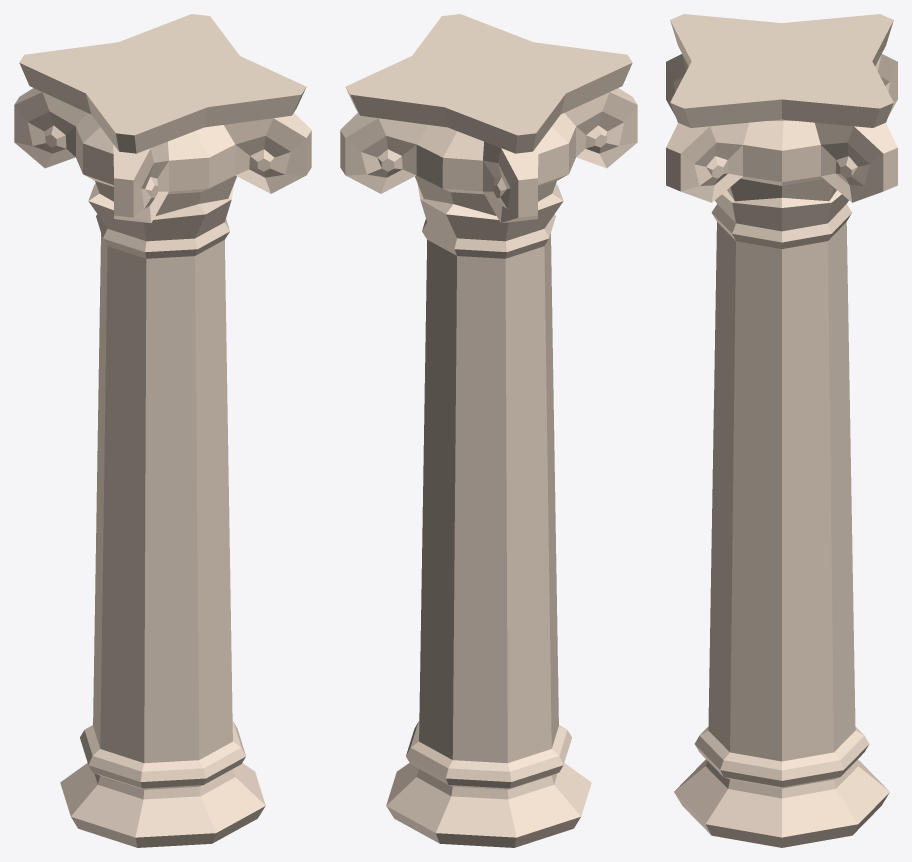
File: empire-pillar-composite-small-empire.glb
3 views of the same model, side by side, from view 1: azimuth 30°, elevation 25°; view 2: azimuth 150°, elevation 25°; view 3: azimuth 270°, elevation 25° (orthographic).
Parts seen in each view (by area): view 1: SM_Pillar_Composite_Small_Empire; view 2: SM_Pillar_Composite_Small_Empire; view 3: SM_Pillar_Composite_Small_Empire.
Boxes of the visible parts, bbox=[...] form: SM_Pillar_Composite_Small_Empire: bbox=[14, 14, 311, 847]; SM_Pillar_Composite_Small_Empire: bbox=[340, 14, 637, 847]; SM_Pillar_Composite_Small_Empire: bbox=[666, 14, 897, 847].
Bounding box in the file's own units: 0.8462 × 3 × 0.8462.
